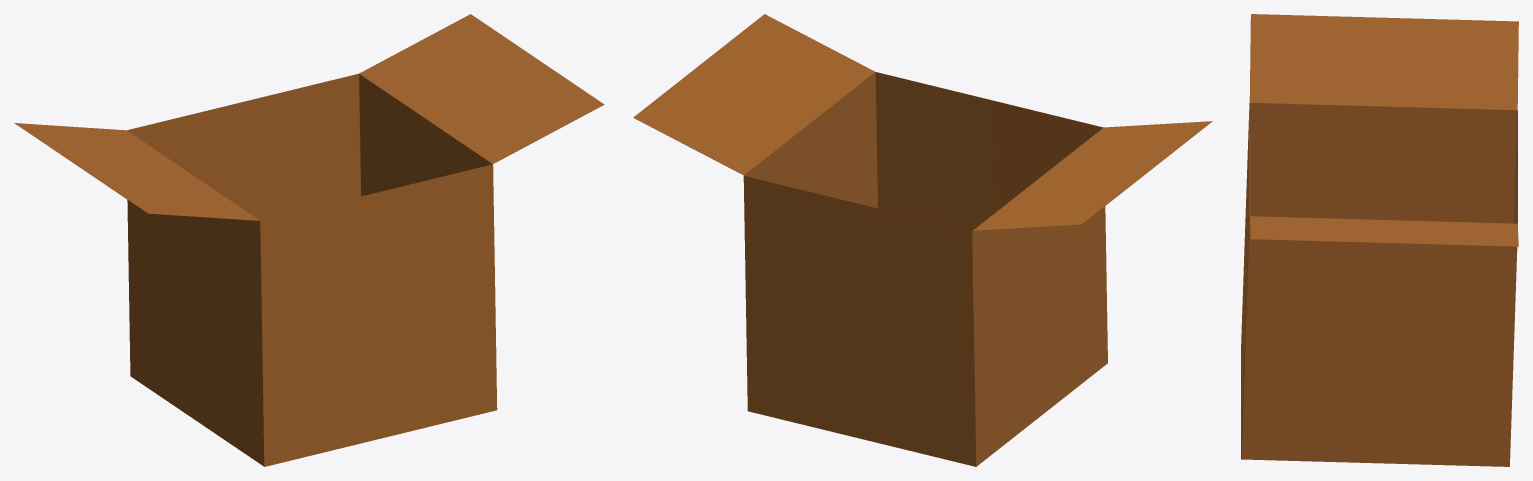
Rendered from PierrotBox_Walk0-27.fbx.
3 renders of one model, left to right at view 1: azimuth 30°, elevation 25°; view 2: azimuth 150°, elevation 25°; view 3: azimuth 270°, elevation 25°, orthographic.
Parts seen in each view (by area): view 1: Pierrot_Box_MS; view 2: Pierrot_Box_MS; view 3: Pierrot_Box_MS.
Boxes of the visible parts, x1,y1,x2,y2 form: Pierrot_Box_MS: [14, 14, 604, 466]; Pierrot_Box_MS: [633, 14, 1212, 466]; Pierrot_Box_MS: [1241, 14, 1518, 466].
Bounding box in the file's own units: 275 × 164 × 145.
